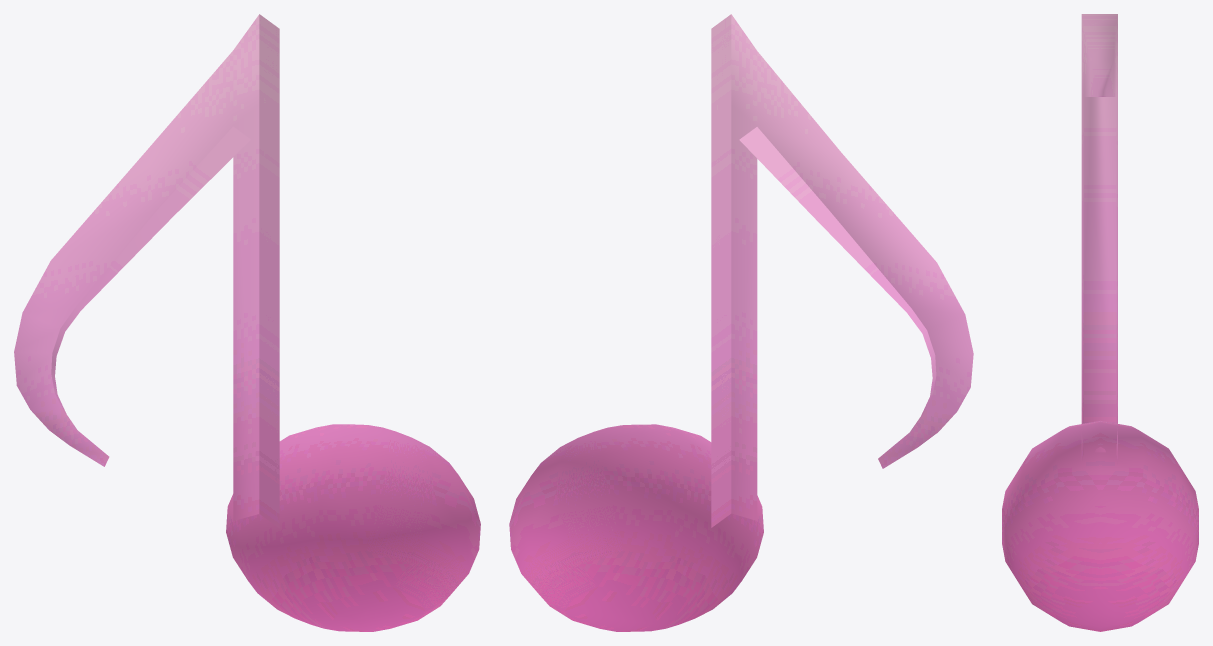
Rendered from ps2_save-icons_angelicconcert.glb.
The picture shows the model from 3 angles, left to right: view 1: azimuth 30°, elevation 25°; view 2: azimuth 150°, elevation 25°; view 3: azimuth 270°, elevation 25°; orthographic projection. The views are drawn at different scales.
Visible parts, largest first — view 1: icon.ico; view 2: icon.ico; view 3: icon.ico.
Part boxes in pixels (x1,y1,x2,y2): icon.ico: (14, 14, 480, 631); icon.ico: (509, 14, 973, 631); icon.ico: (1002, 14, 1198, 631).
Bounding box in the file's own units: 3.53 × 4.65 × 1.48.
1 material, 1 textured.
